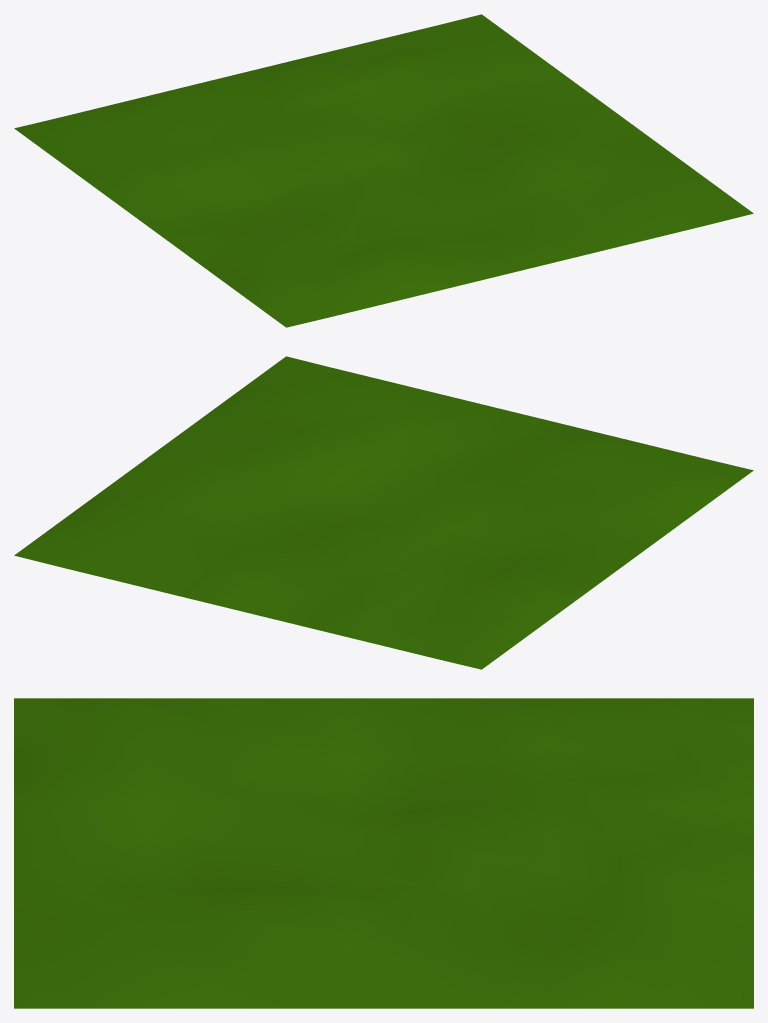
The model's file is Cave Corner.fbx.
3 views of the same model, one above another, from view 1: azimuth 30°, elevation 25°; view 2: azimuth 150°, elevation 25°; view 3: azimuth 270°, elevation 25° (orthographic). The views are drawn at different scales.
Parts seen in each view (by area): view 1: Snow.004; view 2: Snow.004; view 3: Snow.004.
Boxes of the visible parts, box(x1,y1,x2,y2) form: Snow.004: box(14, 14, 753, 327); Snow.004: box(14, 356, 753, 669); Snow.004: box(14, 698, 753, 1008).
Bounding box in the file's own units: 200 × 8.03 × 202.
